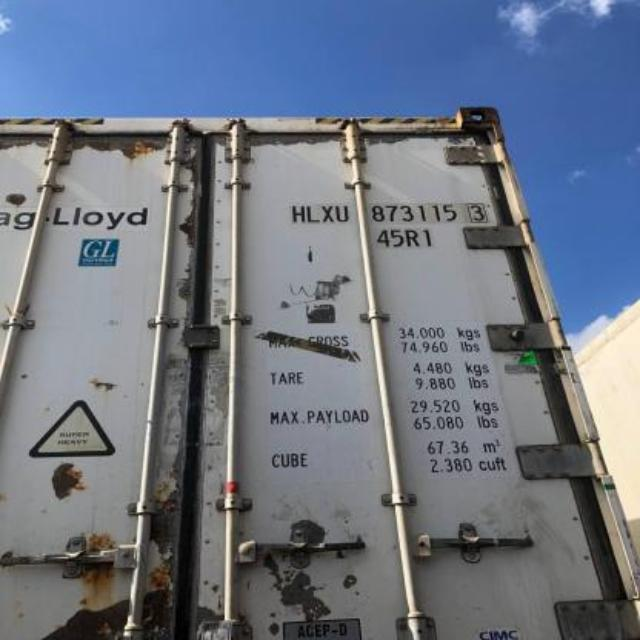1: (418, 199, 430, 225), (431, 201, 443, 225)
3: (468, 198, 492, 225), (396, 199, 416, 223)
5: (442, 200, 458, 224)
7: (384, 195, 398, 227)
8: (372, 198, 384, 225)
H: (290, 201, 306, 225)
L: (306, 202, 322, 228)
U: (334, 197, 350, 227)
X: (322, 198, 334, 230)
